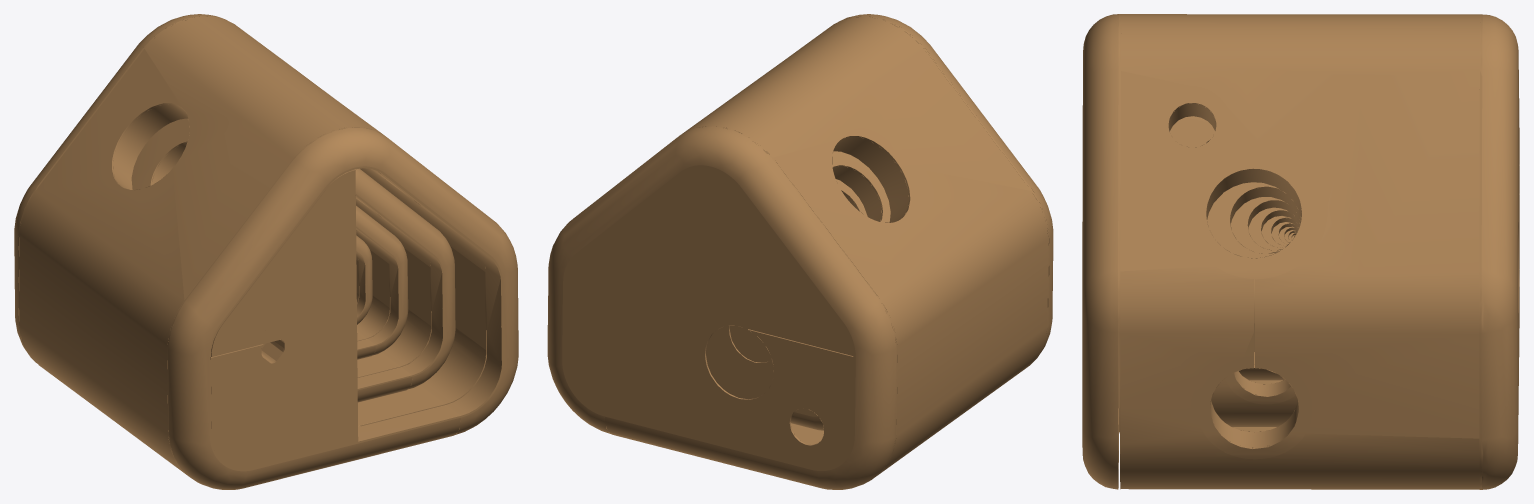
Rendered from Homie_Inception.glb.
The picture shows the model from 3 angles, left to right: view 1: azimuth 30°, elevation 25°; view 2: azimuth 150°, elevation 25°; view 3: azimuth 270°, elevation 25°; orthographic projection. The views are drawn at different scales.
Visible parts, largest first — view 1: connector; view 2: connector; view 3: connector.
Boxes of the visible parts, x1,y1,x2,y2 form: connector: (14,14,518,489); connector: (547,14,1053,489); connector: (1082,14,1519,489).
Size of the model in its own units: 0.5174 by 0.4738 by 0.4708.
